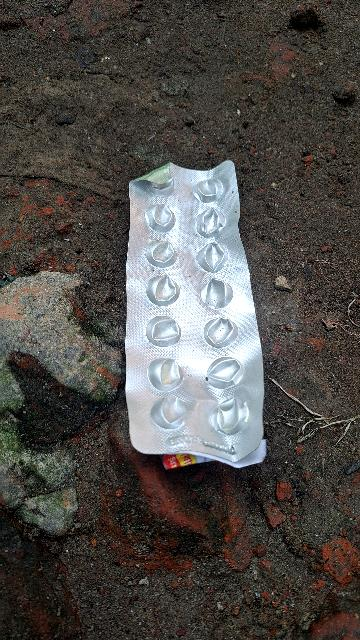medicine: (101, 148, 292, 462)
